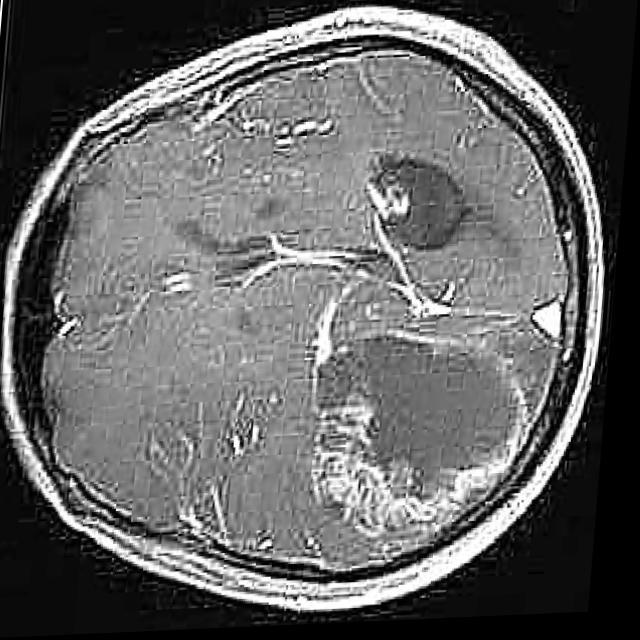Tumor: (321, 335, 528, 537), (373, 166, 466, 256)
